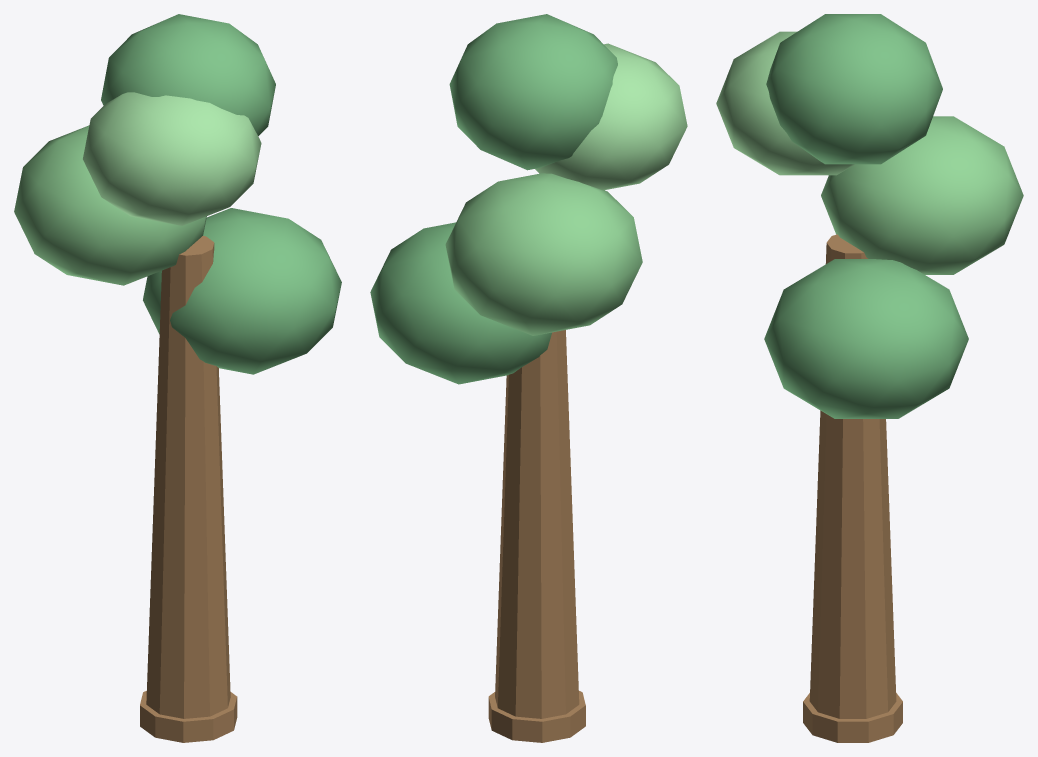
The model's file is tree_c.glb.
3 views of the same model, side by side, from view 1: azimuth 30°, elevation 25°; view 2: azimuth 150°, elevation 25°; view 3: azimuth 270°, elevation 25° (orthographic).
Visible parts, largest first — view 1: tree_c; view 2: tree_c; view 3: tree_c.
Part boxes in pixels (x1,y1,x2,y2): tree_c: (14, 14, 341, 742); tree_c: (370, 14, 687, 742); tree_c: (716, 14, 1023, 742).
Bounding box in the file's own units: 2.12 × 5.27 × 2.09.
